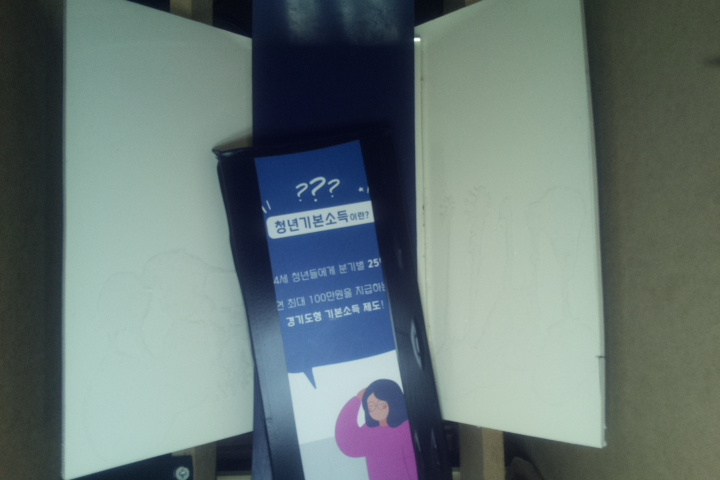book: (218, 137, 445, 480)
